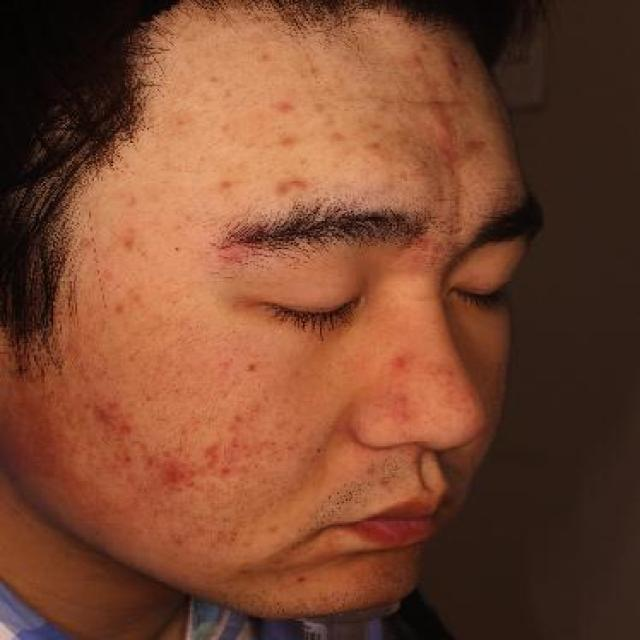dark spot: (80, 390, 149, 472), (197, 408, 262, 488), (267, 160, 320, 211), (152, 451, 195, 502), (101, 228, 154, 268), (375, 344, 412, 382), (265, 90, 308, 118), (204, 172, 243, 200)
